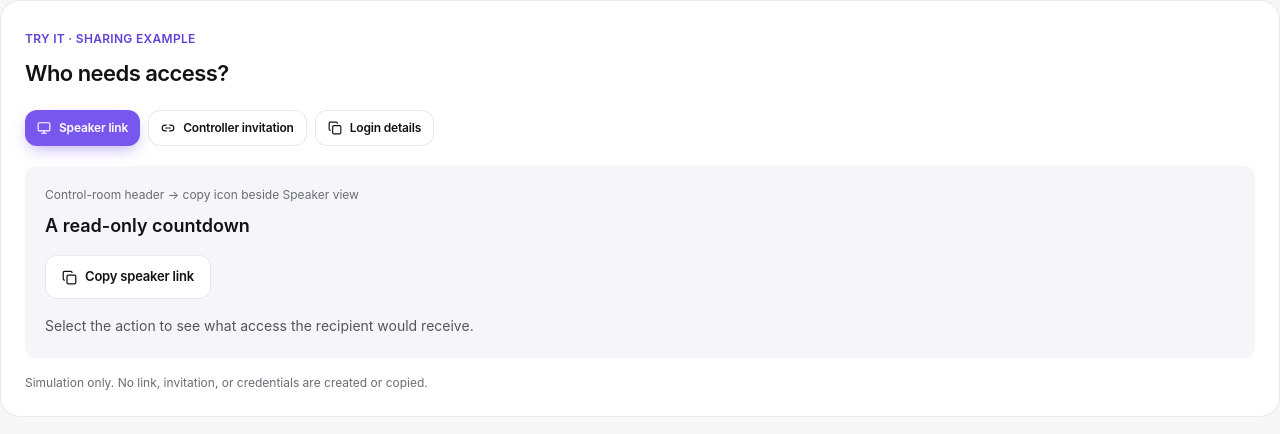
Scenario: Timer learning area › teaches read-only versus controller access without creating invitations
Click the button "Copy speaker link" at (128, 277), box [45,255,211,299]
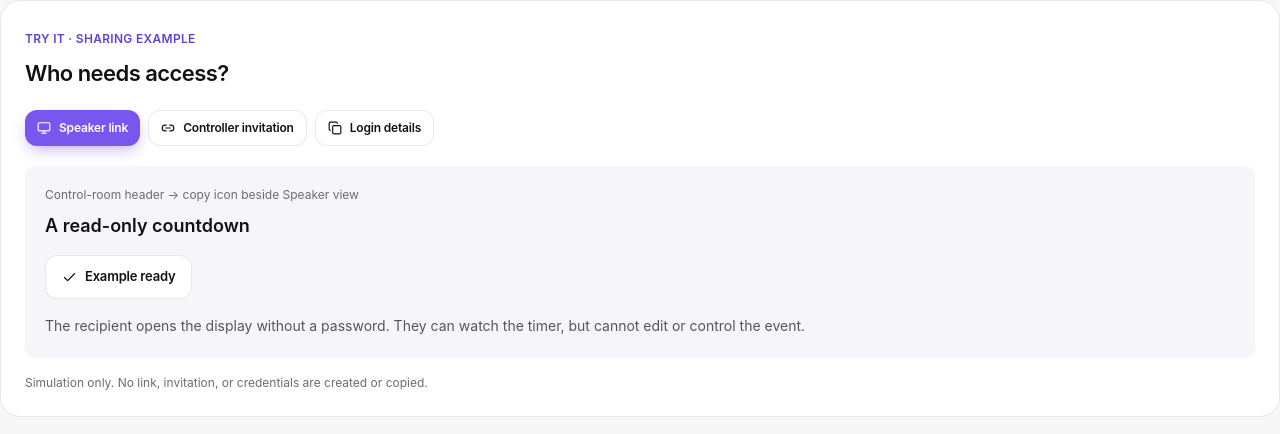
Now the message shows "cannot edit or control", box [45,317,805,334]
Click the button "Controller invitation" at (227, 128), box [148,110,307,146]
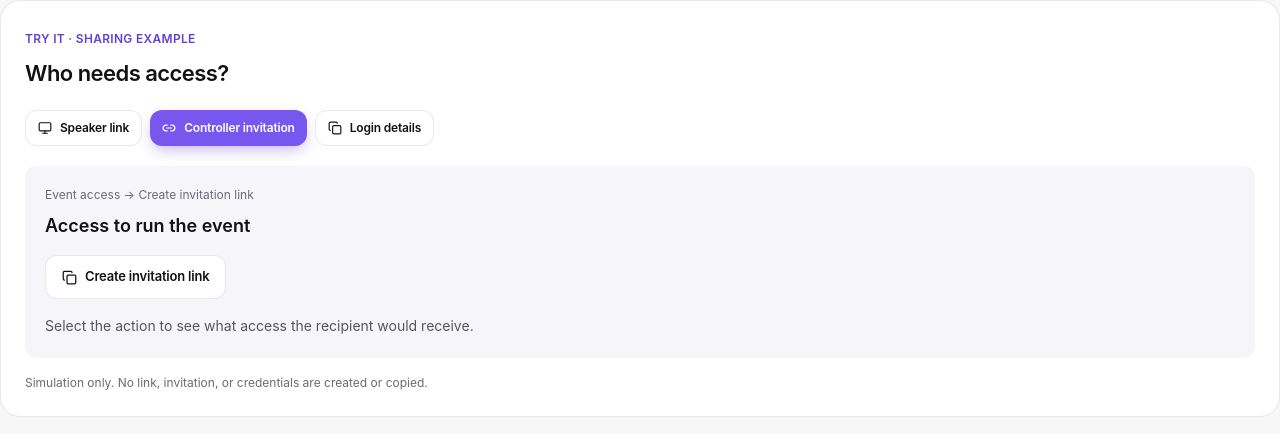
Click the button "Create invitation link" at (136, 277), box [45,255,226,299]
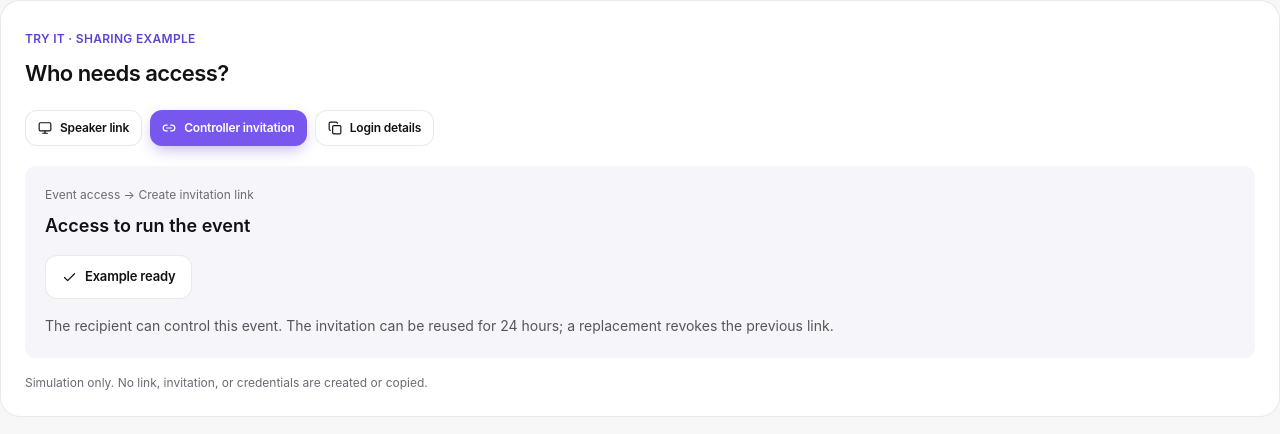
Now the message shows "can control this event", box [45,317,834,334]
